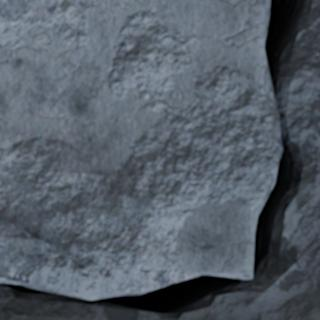brick: (0, 0, 281, 298)
crack: (0, 0, 317, 319)
